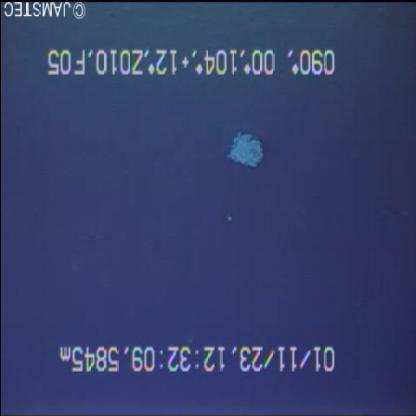Rác: (219, 125, 275, 177)
